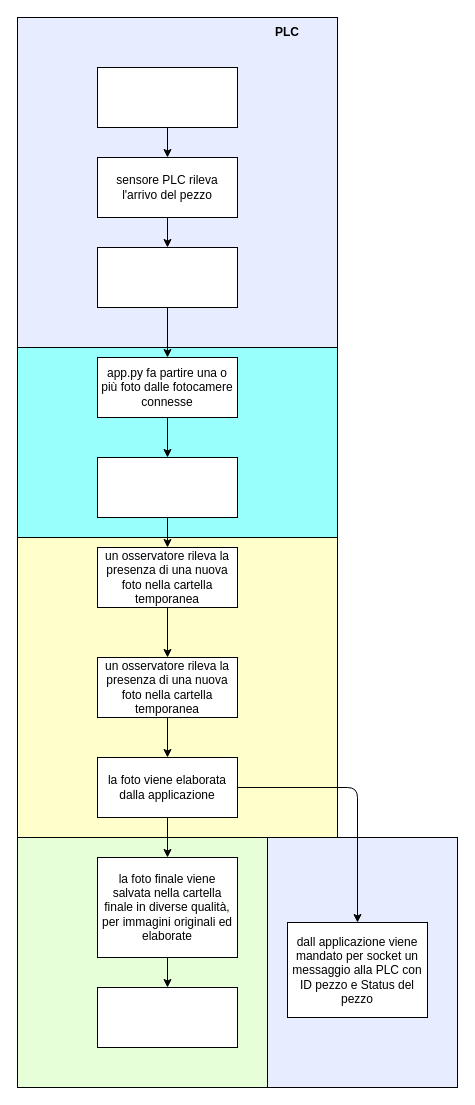
The diagram is 475 pixels wide and 1105 high, and some of its shapes have lost their labels. The shapes that lost their labels are listed below. From the top down, each one's centre as x and y in pixels, then its label:
At [167,97]: "pezzo di pelle che arriva nella parte finale".
At [167,277]: "PLC manda un messaggio tramite socket".
At [167,487]: "la foto viene salvata in una cartella temporanea in diverse qualità".
At [167,1017]: "il frontend richiede una foto da visualizzare e la prende dalla cartella finale".
